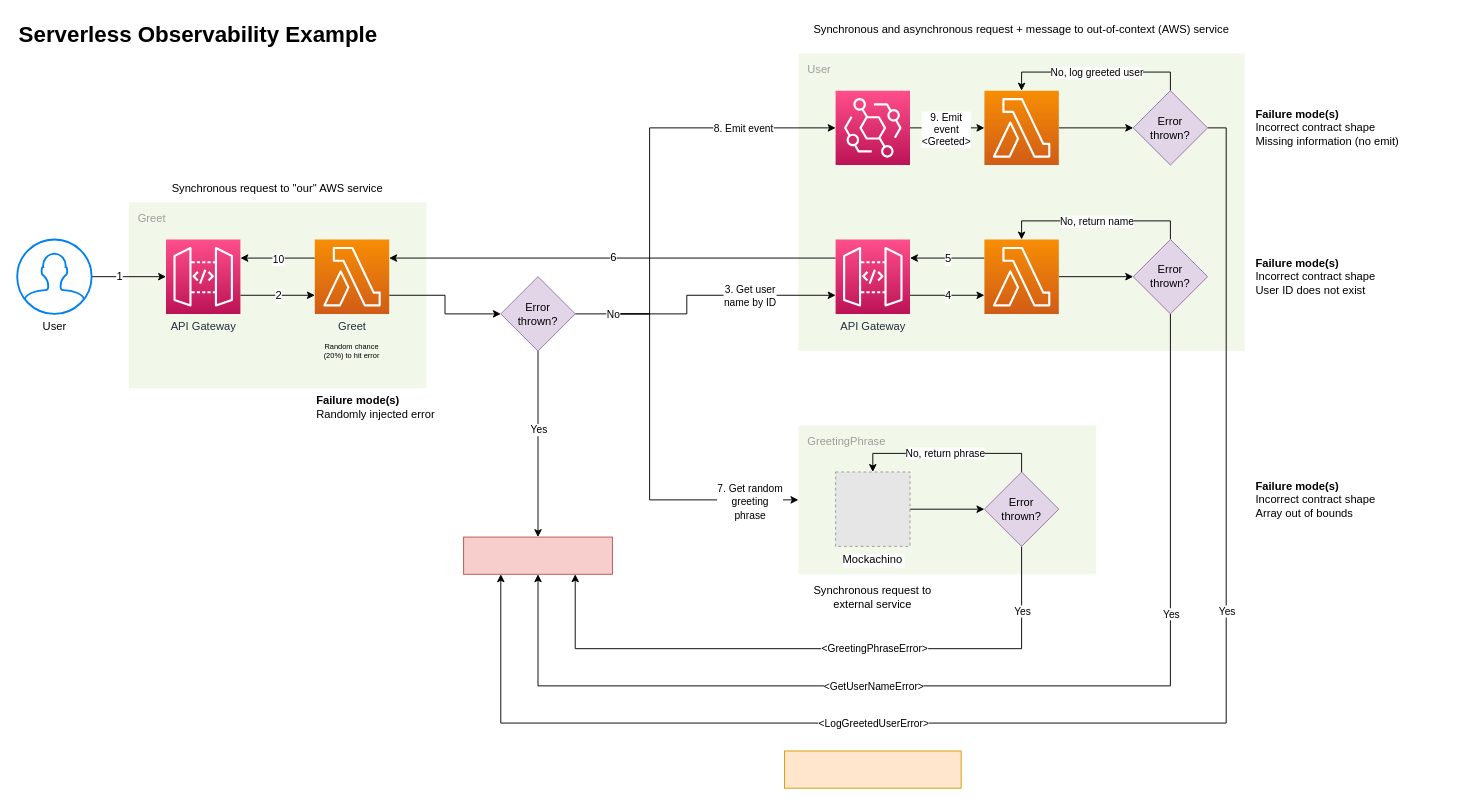
Image size: 1483x804. Some labels were removed from this diagram. Grey dashed boxes stand in for pictures. Here are the shapes that lost their labels. From the top down, the centre of each, then its label:
(872,127): EventBridge
(1021,127): LogGreetedUser
(1021,276): GetUserName
(537,555): Error
(872,769): Errors are indicative!
